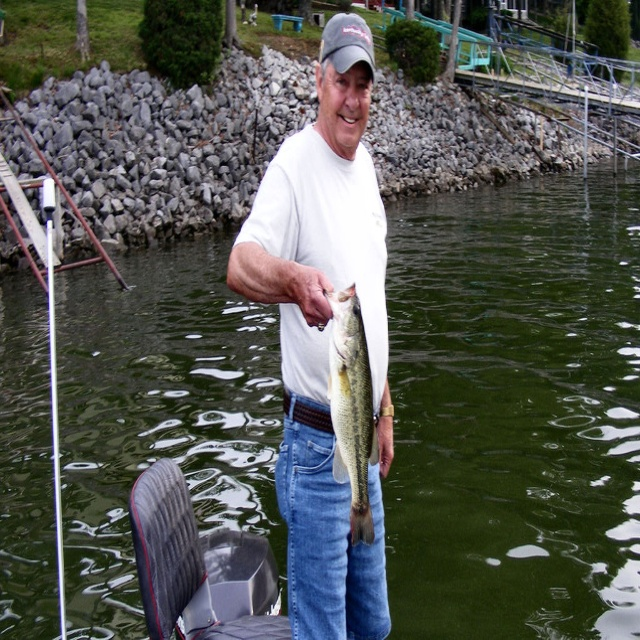Fish: (323, 281, 380, 547)
